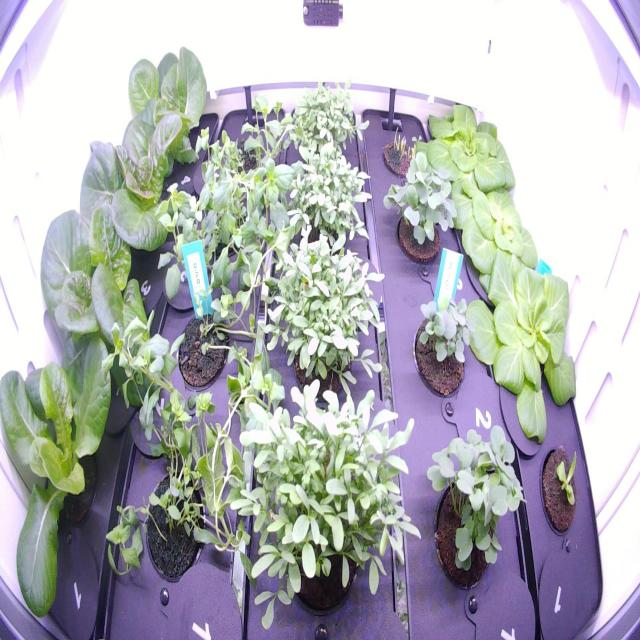germination: (385, 150, 465, 270), (405, 288, 479, 407)
young: (0, 324, 138, 628), (21, 146, 163, 384), (457, 236, 589, 450), (78, 77, 193, 268), (411, 82, 525, 213), (112, 30, 211, 179), (440, 172, 550, 306), (533, 432, 588, 548)
